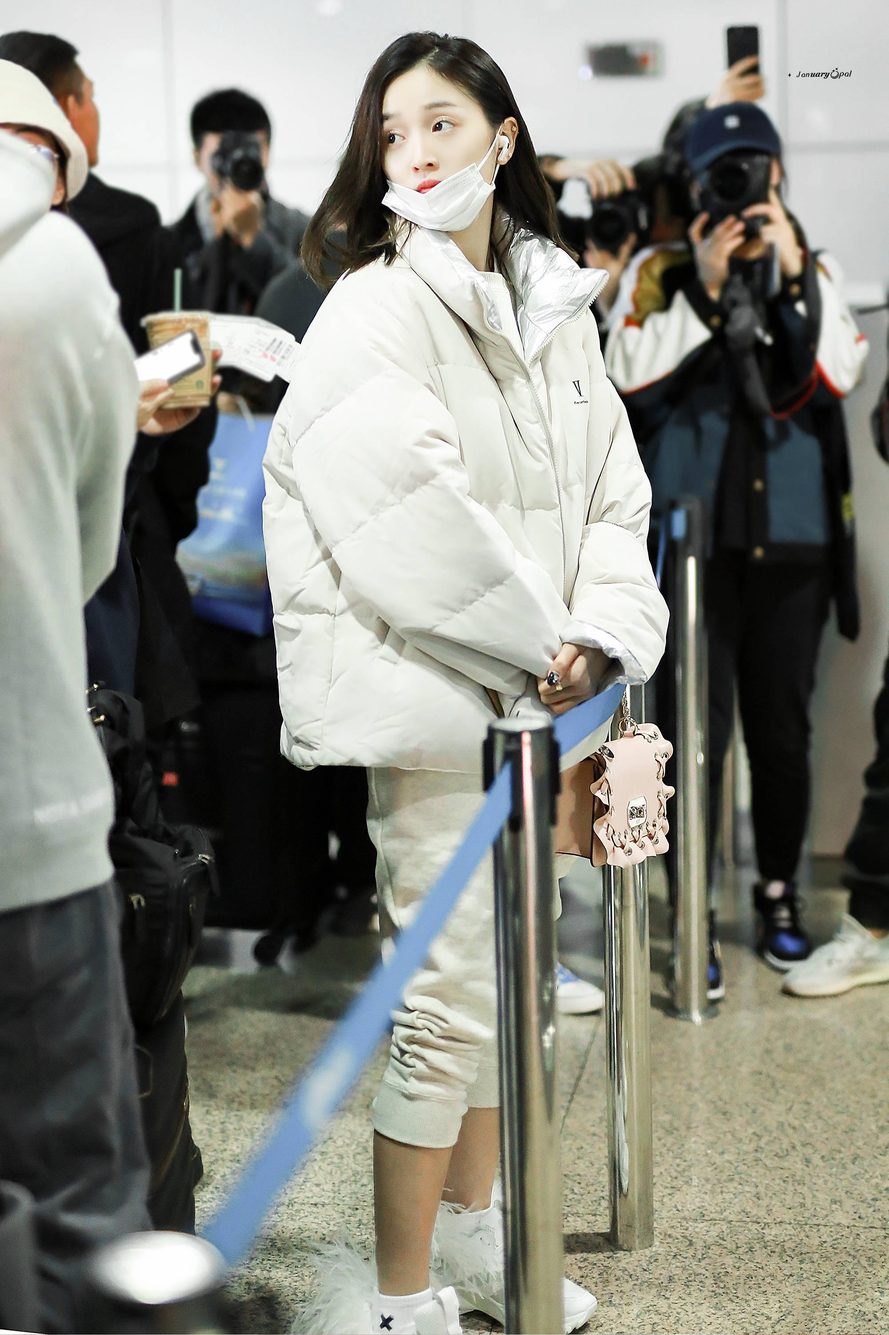WRONG: (375, 91, 498, 230)
